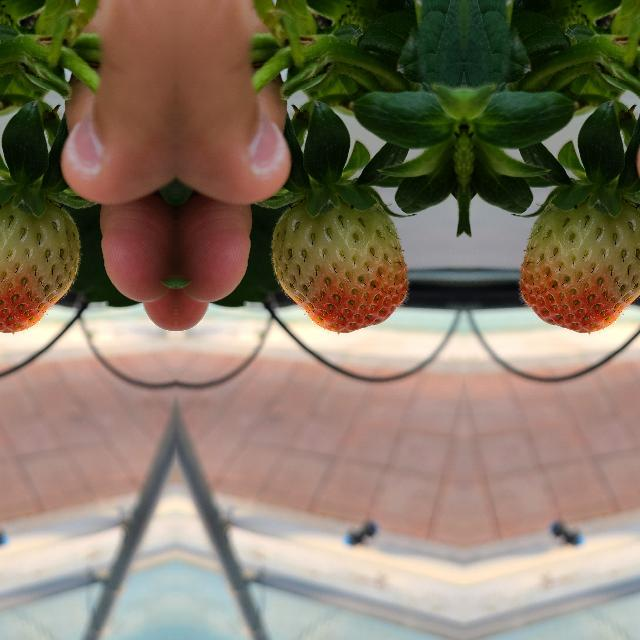Health_50: (271, 198, 405, 332), (521, 198, 640, 331), (0, 198, 79, 331)
